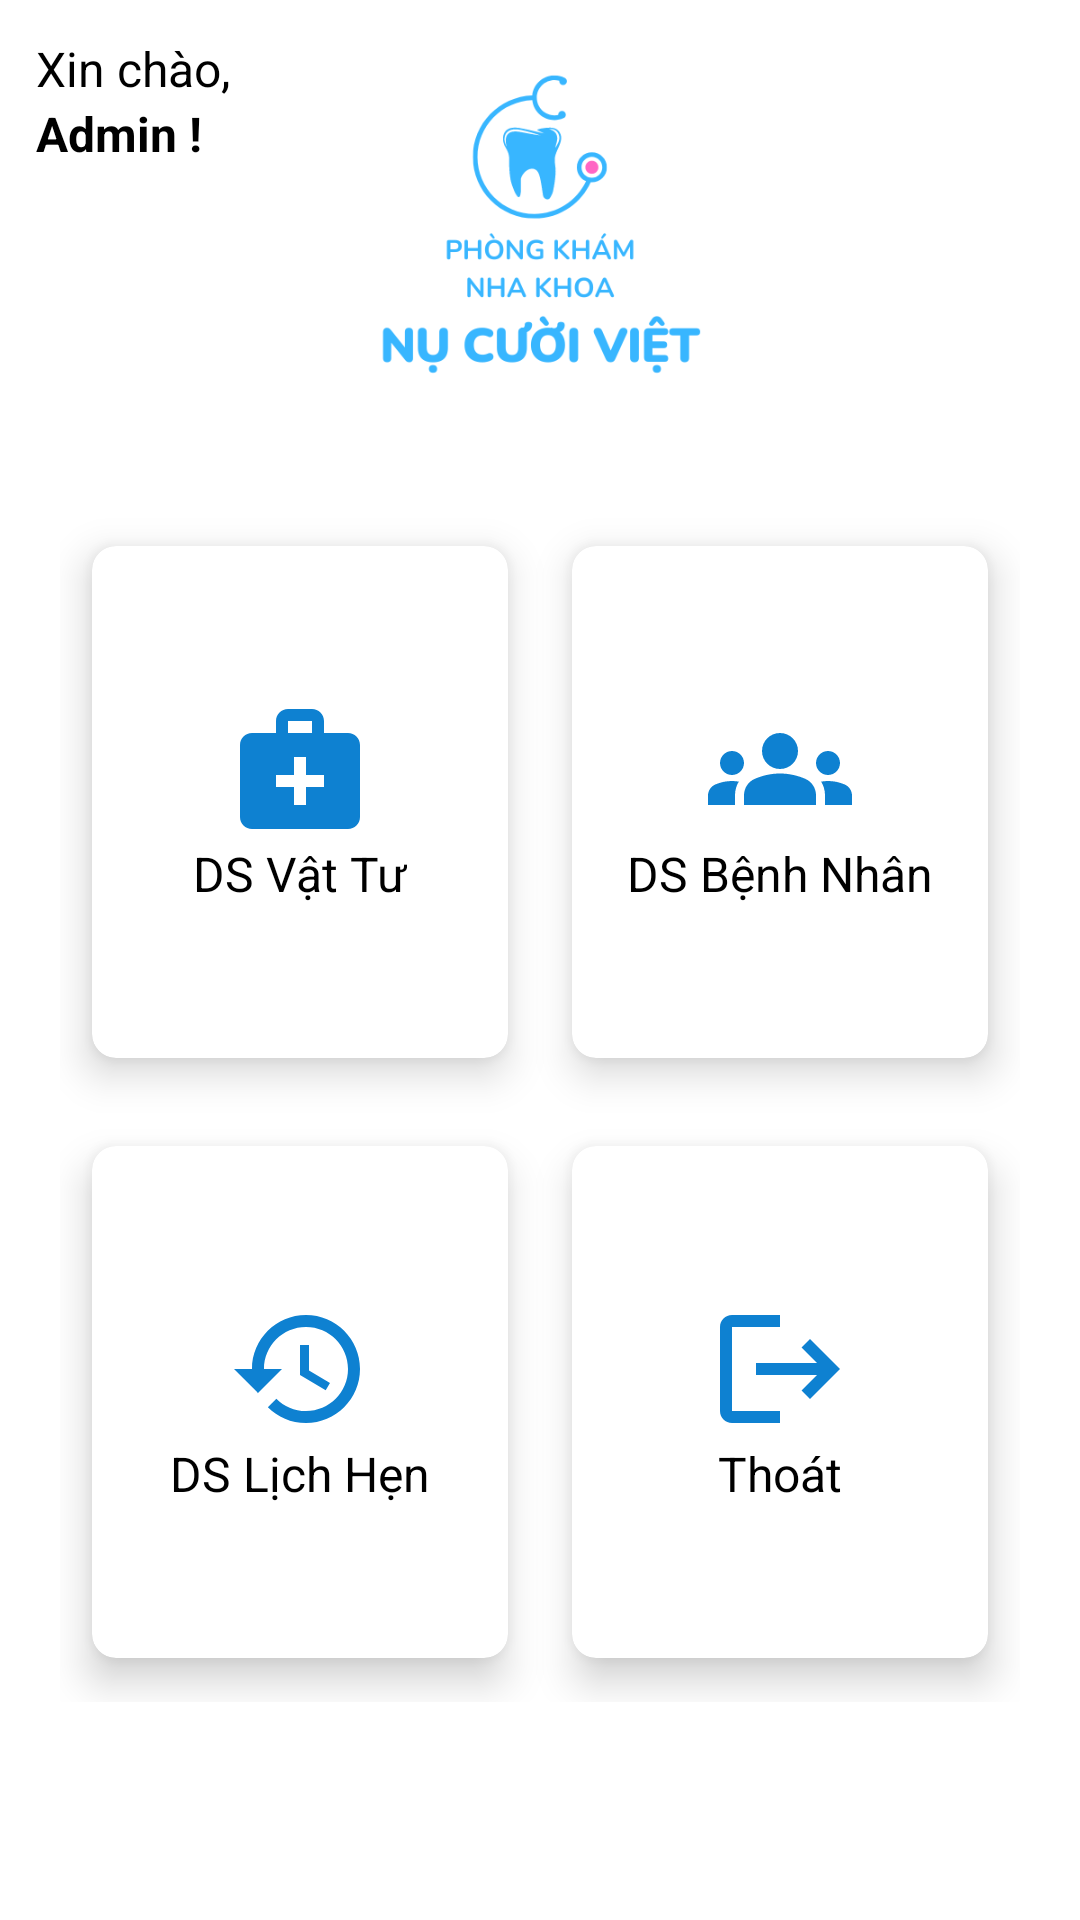

Where to tap for icons on this 1080w x 1920h app screen, as (x=x, y=y):
groups: (x=780, y=769)
history: (x=297, y=1369)
services: (x=300, y=769)
